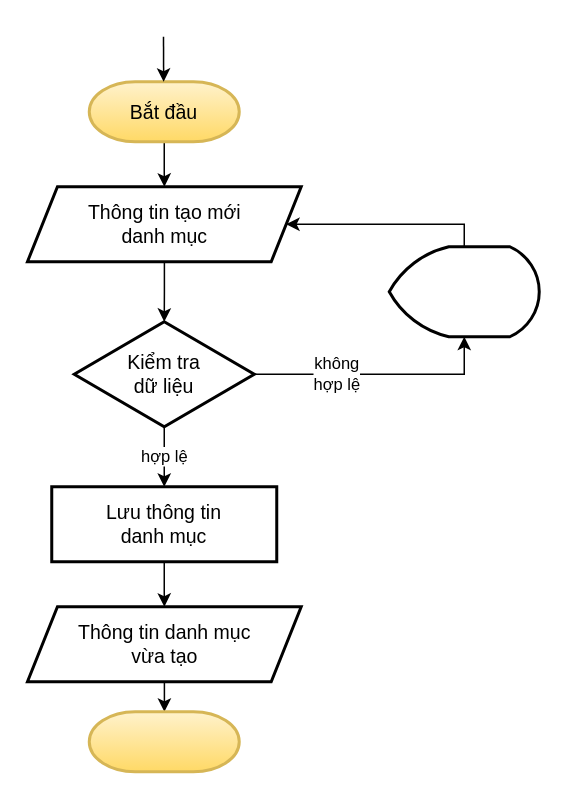
The diagram is 567 pixels wide and 800 high, and some of its shapes have lost their labels. Each missing label, with the box of its shape:
Kết thúc: (87, 710, 240, 772)
Thông báo lỗi: (387, 244, 540, 338)
